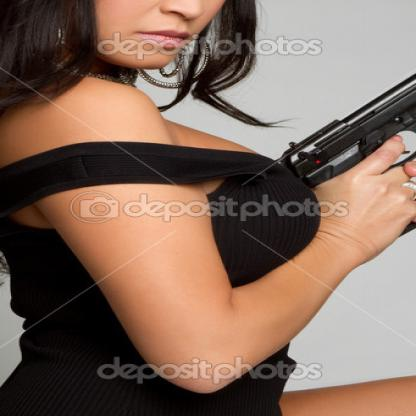gun: (268, 37, 415, 247)
